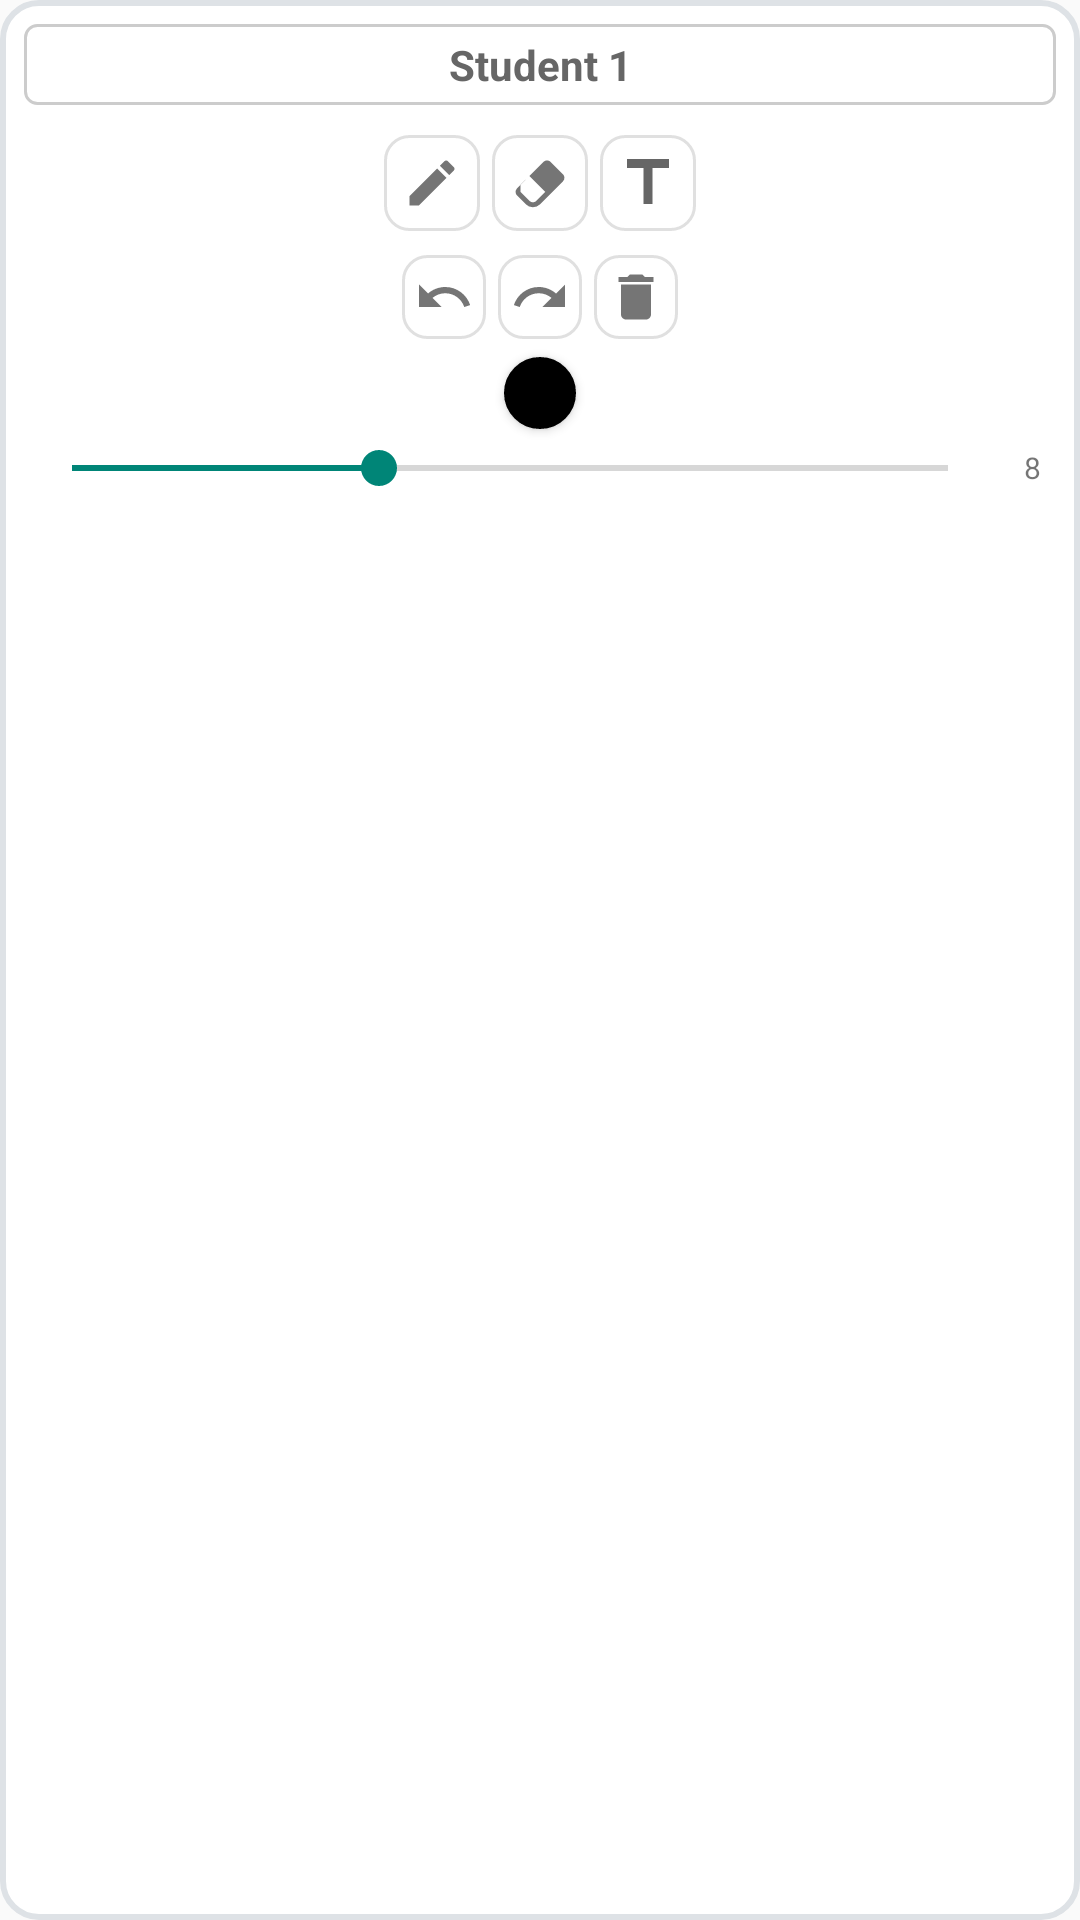

Named icons in this screenshot (1080 x 1920) and their centers, [x,y]:
انتخاب ابزار متن: [648,183]
انتخاب قلم: [432,183]
بازگردانی آخرین عمل: [540,297]
برگشت از آخرین عمل: [444,297]
پاک کردن رویاگرانی: [636,297]
